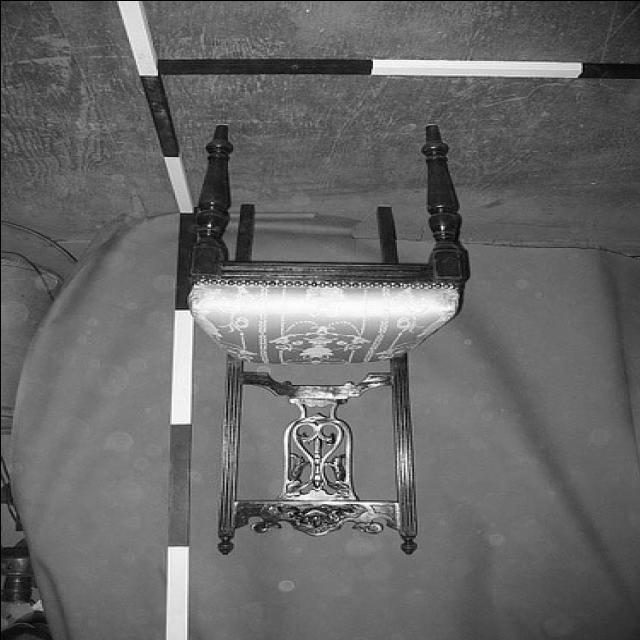chair: (183, 122, 475, 556)
